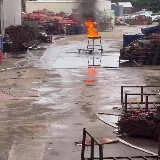fire: (84, 19, 100, 37)
